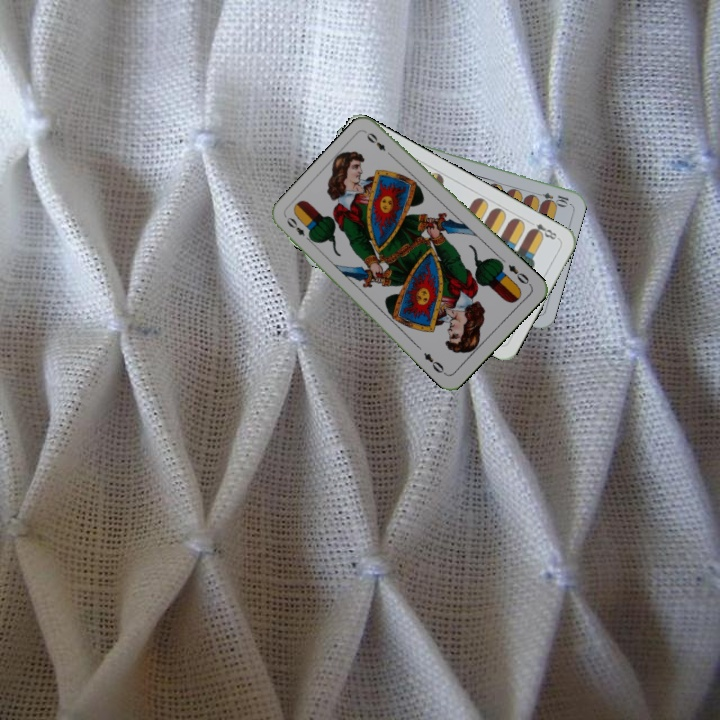E10: (531, 188, 571, 208)
E8: (525, 217, 562, 242)
EO: (282, 213, 316, 245), (504, 260, 534, 288)
